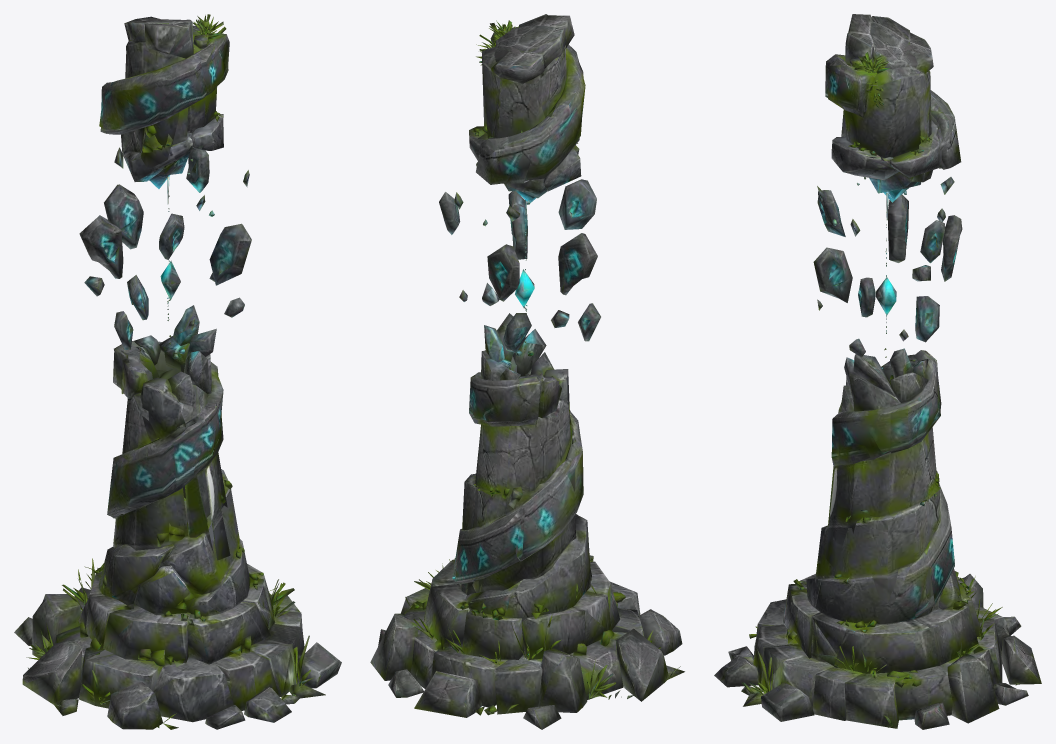
The model's file is rune_pillar.glb.
3 renders of one model, left to right at view 1: azimuth 30°, elevation 25°; view 2: azimuth 150°, elevation 25°; view 3: azimuth 270°, elevation 25°, orthographic. The views are drawn at different scales.
Bounding box in the file's own units: 0.4047 × 0.9502 × 0.4409.
Materials: 1 (1 with a texture image).
